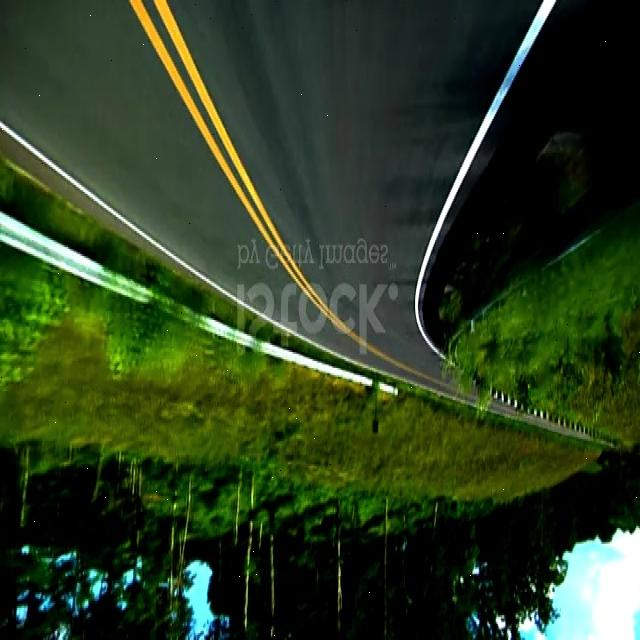lane: (155, 0, 332, 320), (415, 0, 555, 357), (1, 121, 231, 297)
road: (0, 4, 536, 400)
